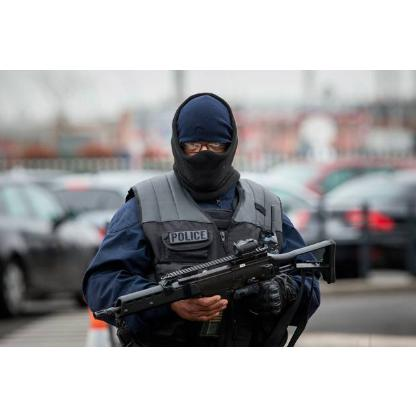gun: (91, 233, 341, 336)
